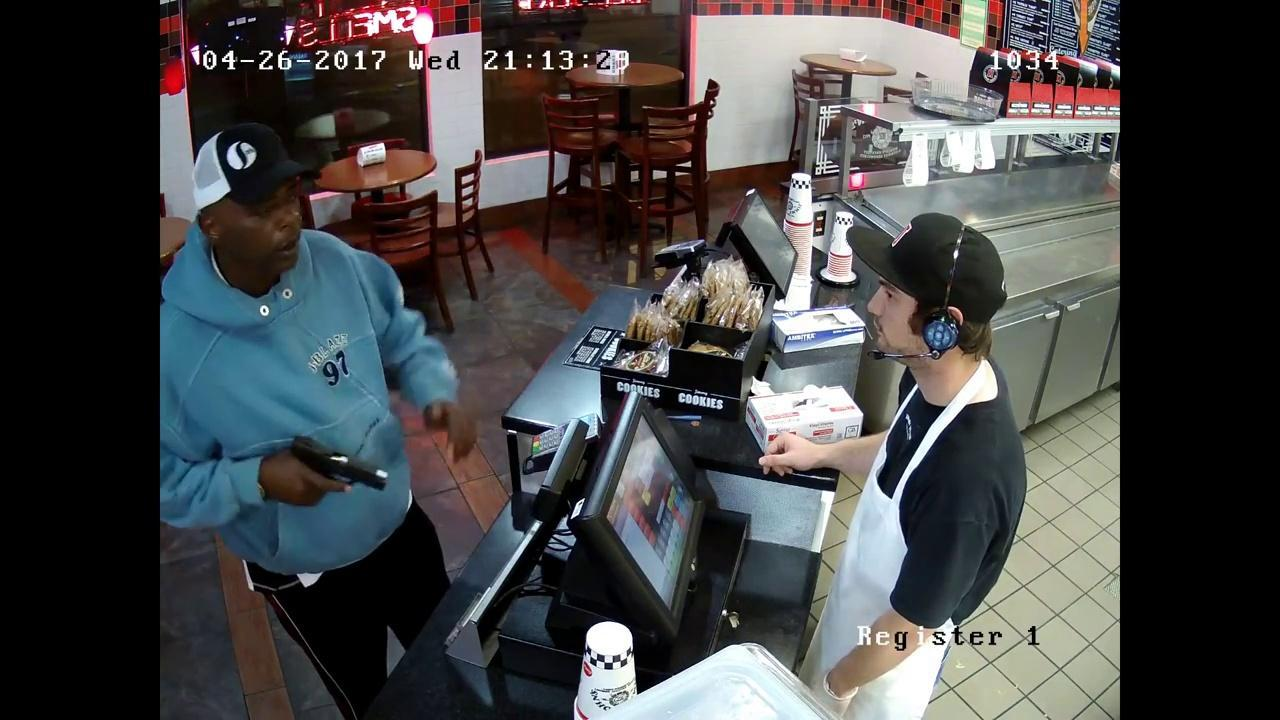Guns: (255, 425, 414, 523)
